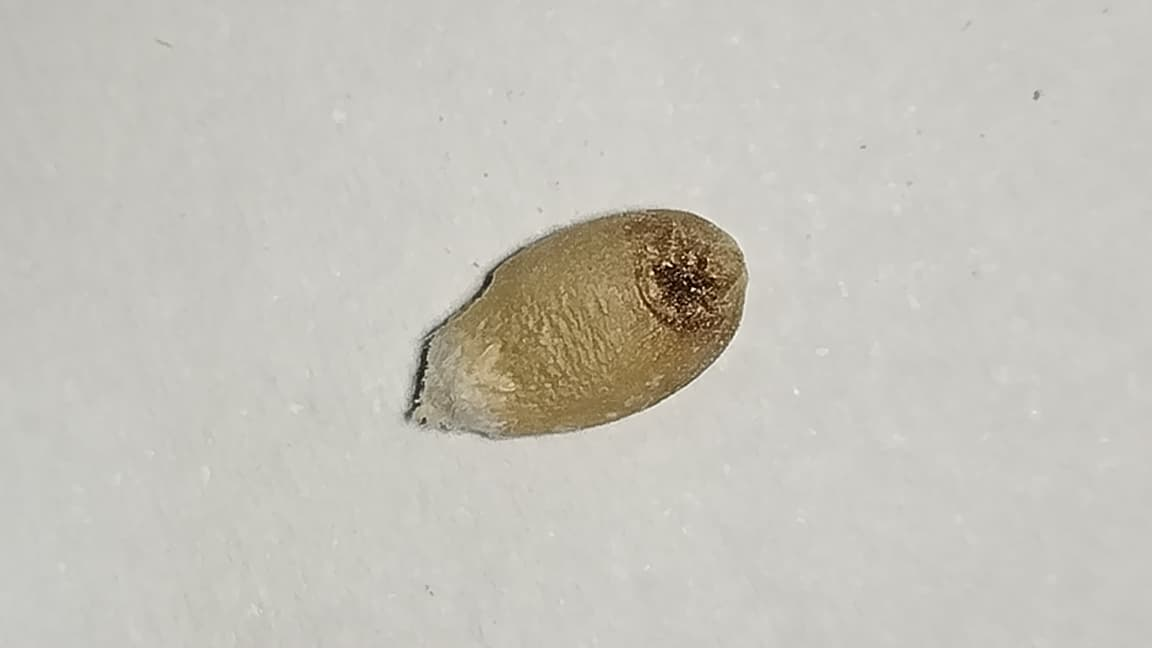damage: (402, 210, 751, 439)
insectdamage: (421, 275, 516, 345)
staindamage: (625, 209, 742, 352)
